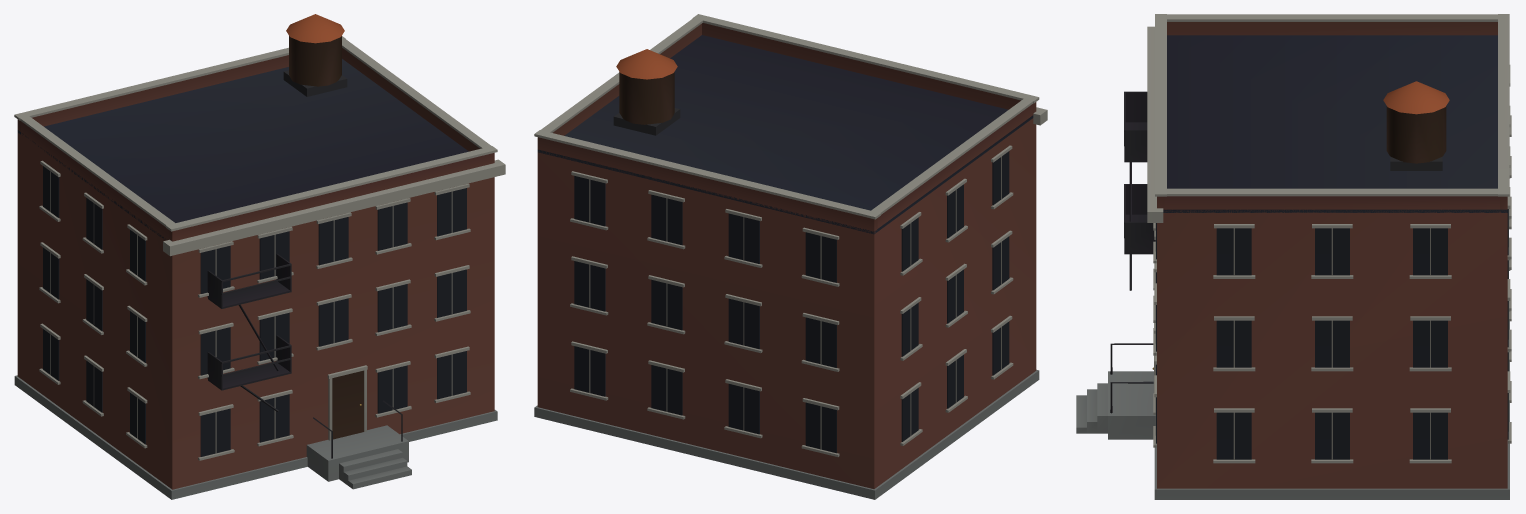
The model's file is shell_rotrow_walkup.glb.
3 views of the same model, side by side, from view 1: azimuth 30°, elevation 25°; view 2: azimuth 150°, elevation 25°; view 3: azimuth 270°, elevation 25° (orthographic). The views are drawn at different scales.
Visible parts, largest first — view 1: shell_rotrow_walkup; view 2: shell_rotrow_walkup; view 3: shell_rotrow_walkup.
Part boxes in pixels (box(x1,y1,x2,y2)): shell_rotrow_walkup: box(14, 14, 505, 499); shell_rotrow_walkup: box(534, 14, 1047, 499); shell_rotrow_walkup: box(1076, 14, 1511, 499).
Size of the model in its own units: 12.5 by 12.03 by 12.41.
